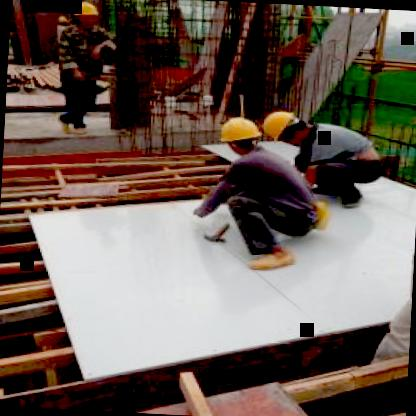helmet: (257, 107, 310, 149), (216, 114, 264, 156), (67, 0, 105, 25)
